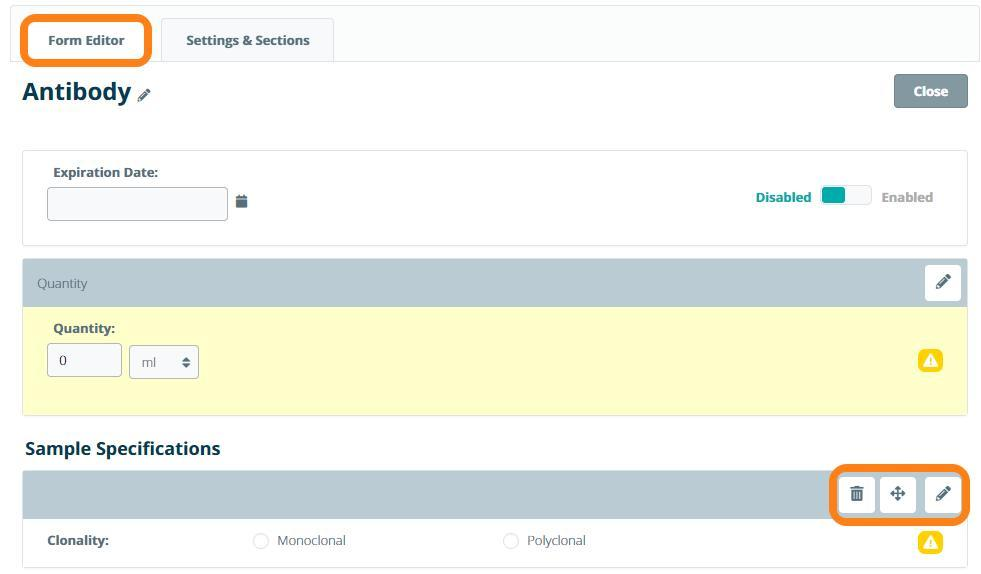button: (161, 19, 335, 61), (896, 75, 968, 109), (925, 266, 963, 303)
dropdown: (129, 345, 201, 380)
icon: (931, 483, 954, 506), (888, 484, 909, 504), (849, 483, 867, 505), (921, 352, 941, 371), (922, 535, 941, 554), (136, 89, 153, 107), (936, 274, 952, 291)
input: (50, 187, 229, 221), (49, 344, 122, 376)
label: (25, 442, 222, 461), (21, 80, 134, 108), (51, 167, 160, 182), (48, 533, 111, 549), (277, 535, 348, 549), (51, 324, 118, 338), (527, 535, 588, 550), (882, 191, 935, 204), (756, 193, 814, 204)
radio: (501, 533, 521, 552), (30, 530, 46, 552), (254, 533, 271, 552)
switch: (821, 186, 875, 206)
